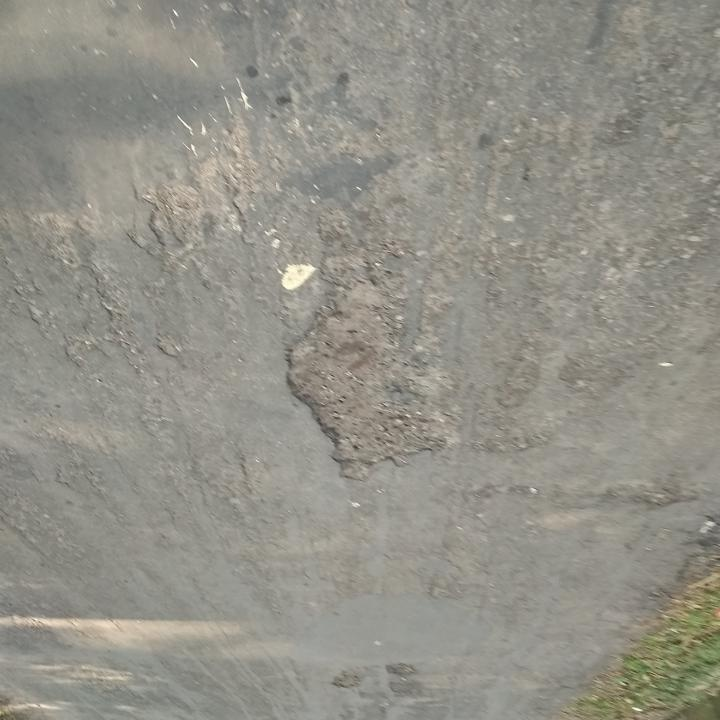pothole: (280, 262, 456, 477), (331, 663, 367, 692), (386, 679, 426, 699), (382, 661, 419, 677)
